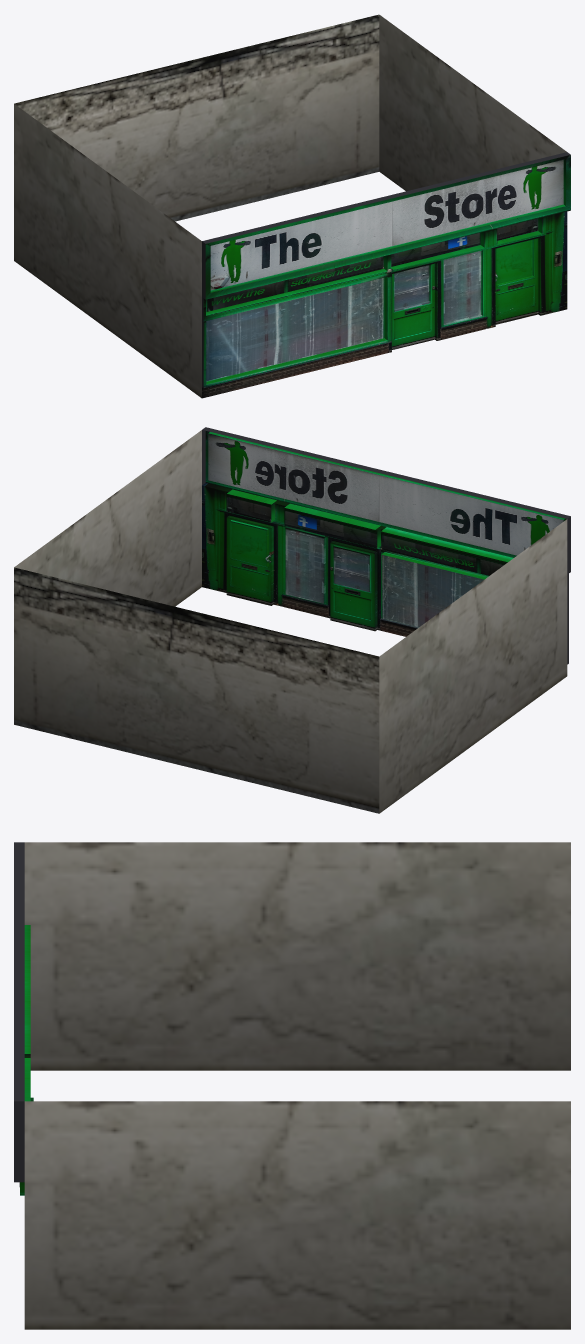
Rendered from the store.fbx.
The picture shows the model from 3 angles, top to bottom: view 1: azimuth 30°, elevation 25°; view 2: azimuth 150°, elevation 25°; view 3: azimuth 270°, elevation 25°; orthographic projection. The views are drawn at different scales.
Parts seen in each view (by area): view 1: Plane.003; view 2: Plane.003; view 3: Plane.003.
Part boxes in pixels (bbox=[...]): Plane.003: bbox=[14, 14, 570, 398]; Plane.003: bbox=[14, 427, 570, 813]; Plane.003: bbox=[14, 842, 570, 1329].
Bounding box in the file's own units: 506 × 208 × 460.
1 material, 1 textured.
